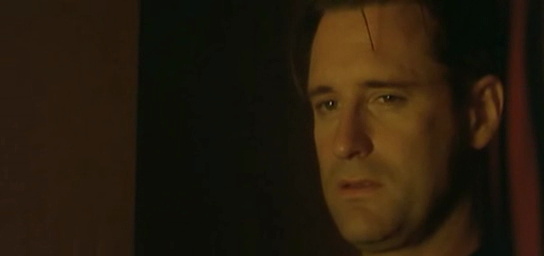cu: (1, 1, 544, 256)
face: (308, 31, 446, 244)
person: (289, 1, 522, 256)
